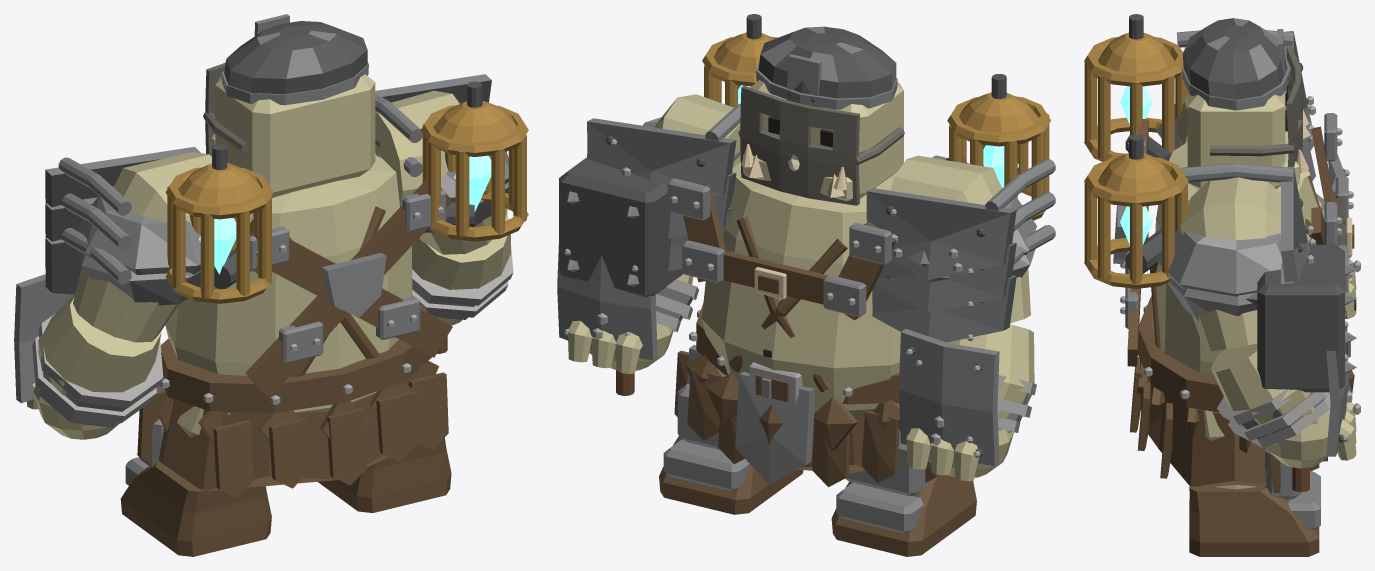
The model's file is host_43.glb.
3 views of the same model, side by side, from view 1: azimuth 30°, elevation 25°; view 2: azimuth 150°, elevation 25°; view 3: azimuth 270°, elevation 25° (orthographic). The views are drawn at different scales.
Parts seen in each view (by area): view 1: V6 source anatomical thorax, Observed face, Continuous heavy leather belt, Grounded boot L, V6 soul ogre source contacting shoulder lantern cage actual  (×8), V6 source fitted rounded metal cap, V6 source anatomical upper arm L, Connected ragged leather battle skirt, V6 source anatomical forearm L, V6 soul ogre source contacting shoulder lantern cage contact (×4), Grounded boot R, V6 soul ogre source contacting shoulder lantern cage closed  (×2) (+36 smaller); view 2: V6 source anatomical thorax, V6 soul ogre actual cuboid studded iron mallet head, V6 source wrapped wrist armor L, V6 source continuous fitted mask with real eye openings, V6 source angled fitted shoulder plate L, V6 source angled fitted shoulder plate R, V6 source fitted rounded metal cap, Large source front skirt iron shield, V6 source wrapped wrist armor R, Grounded boot L, V6 source anatomical upper arm L, V6 source angled fitted shoulder plate L.002 (+48 smaller); view 3: V6 soul ogre actual cuboid studded iron mallet head, V6 soul ogre source contacting shoulder lantern cage actual  (×10), Grounded boot R, V6 source anatomical upper arm R, V6 soul ogre source contacting shoulder lantern cage contact (×6), V6 source fitted rounded metal cap, Stacked source iron pauldron R, Connected ragged leather battle skirt, Observed face, V6 soul ogre source contacting shoulder lantern cage closed  (×2), V6 source anatomical thorax, Continuous heavy leather belt (+36 smaller).
Boxes of the visible parts, x1=… form: V6 source anatomical thorax: x1=165, y1=153, x2=412, y2=412; Observed face: x1=215, y1=74, x2=375, y2=197; Continuous heavy leather belt: x1=160, y1=304, x2=431, y2=412; Grounded boot L: x1=120, y1=462, x2=271, y2=556; V6 soul ogre source contacting shoulder lantern cage actual  (×8): x1=172, y1=134, x2=526, y2=298; V6 source fitted rounded metal cap: x1=224, y1=21, x2=367, y2=94; V6 source anatomical upper arm L: x1=73, y1=152, x2=211, y2=342; Connected ragged leather battle skirt: x1=159, y1=370, x2=418, y2=490; V6 source anatomical forearm L: x1=38, y1=293, x2=161, y2=425; V6 soul ogre source contacting shoulder lantern cage contact (×4): x1=165, y1=105, x2=528, y2=303; Grounded boot R: x1=317, y1=437, x2=451, y2=512; V6 soul ogre source contacting shoulder lantern cage closed  (×2): x1=178, y1=101, x2=516, y2=204; V6 source anatomical thorax: x1=702, y1=162, x2=900, y2=423; V6 soul ogre actual cuboid studded iron mallet head: x1=559, y1=157, x2=683, y2=297; V6 source wrapped wrist armor L: x1=899, y1=329, x2=999, y2=466; V6 source continuous fitted mask with real eye openings: x1=740, y1=85, x2=859, y2=205; V6 source angled fitted shoulder plate L: x1=866, y1=188, x2=1016, y2=280; V6 source angled fitted shoulder plate R: x1=587, y1=118, x2=736, y2=196; V6 source fitted rounded metal cap: x1=758, y1=26, x2=896, y2=98; Large source front skirt iron shield: x1=735, y1=371, x2=815, y2=484; V6 source wrapped wrist armor R: x1=557, y1=245, x2=657, y2=360; Grounded boot L: x1=831, y1=475, x2=976, y2=556; V6 source anatomical upper arm L: x1=890, y1=155, x2=1030, y2=323; V6 source angled fitted shoulder plate L.002: x1=872, y1=275, x2=1016, y2=342; V6 soul ogre actual cuboid studded iron mallet head: x1=1257, y1=244, x2=1344, y2=392; V6 soul ogre source contacting shoulder lantern cage actual  (×10): x1=1084, y1=62, x2=1187, y2=284; Grounded boot R: x1=1189, y1=485, x2=1319, y2=556; V6 source anatomical upper arm R: x1=1178, y1=177, x2=1280, y2=351; V6 soul ogre source contacting shoulder lantern cage contact (×6): x1=1084, y1=14, x2=1188, y2=288; V6 source fitted rounded metal cap: x1=1183, y1=18, x2=1287, y2=99; Stacked source iron pauldron R: x1=1156, y1=227, x2=1282, y2=296; Connected ragged leather battle skirt: x1=1148, y1=390, x2=1266, y2=486; Observed face: x1=1187, y1=90, x2=1285, y2=189; V6 soul ogre source contacting shoulder lantern cage closed  (×2): x1=1098, y1=32, x2=1174, y2=193; V6 source anatomical thorax: x1=1151, y1=142, x2=1345, y2=374; Continuous heavy leather belt: x1=1138, y1=296, x2=1223, y2=412.
Bounding box in the file's own units: 1.72 × 1.68 × 0.9158.
